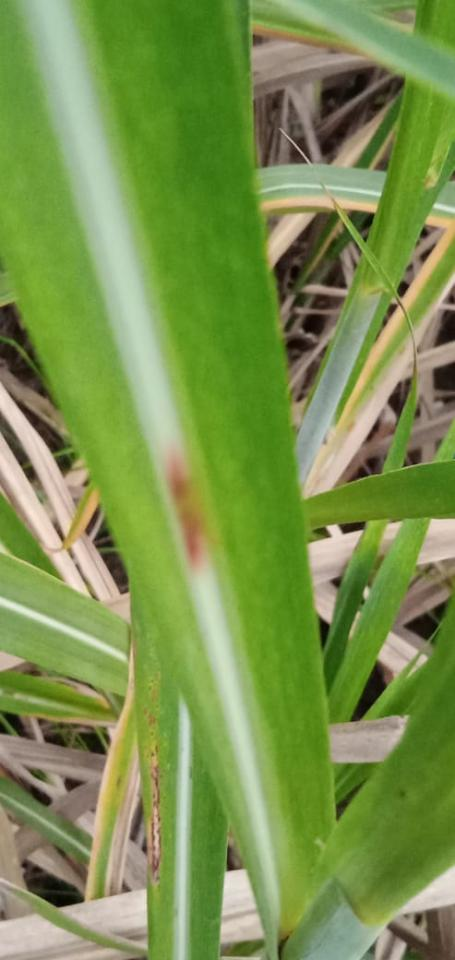RedRot: (167, 453, 207, 572)
